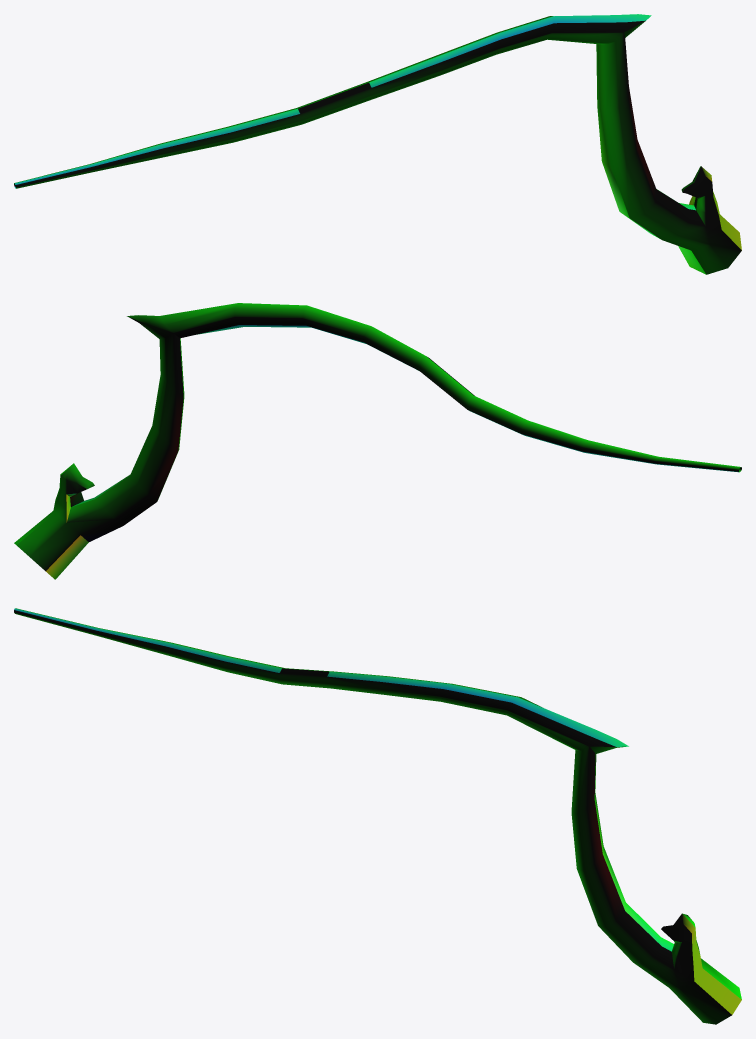
File: uni_angel_wingl.fbx
3 renders of one model, top to bottom at view 1: azimuth 30°, elevation 25°; view 2: azimuth 150°, elevation 25°; view 3: azimuth 330°, elevation 25°, orthographic. The views are drawn at different scales.
Parts seen in each view (by area): view 1: uni_angel_wingl; view 2: uni_angel_wingl; view 3: uni_angel_wingl.
Part boxes in pixels (<box>): uni_angel_wingl: <box>14,14,741,274</box>; uni_angel_wingl: <box>14,303,741,579</box>; uni_angel_wingl: <box>14,608,741,1024</box>.
Size of the model in its own units: 1869 by 15655 by 6466.
